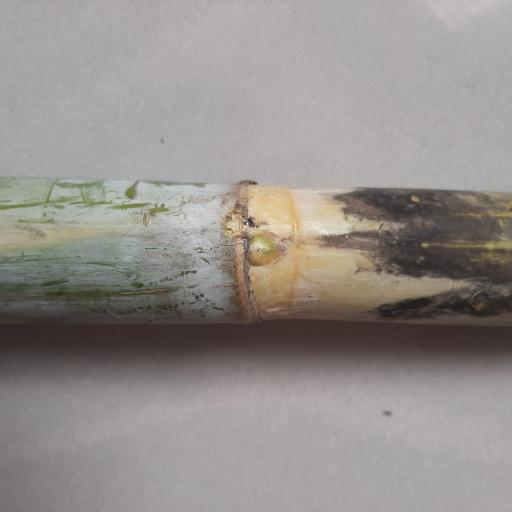Bud: (245, 228, 288, 269)
